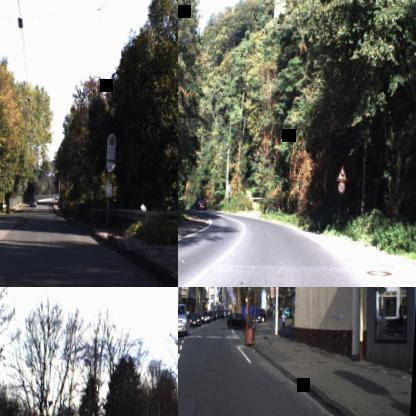bend left: (336, 164, 348, 182)
no overtaking (trucks): (90, 174, 98, 186)
speed limit 30: (147, 400, 158, 416)
speed limit 50: (336, 180, 346, 194)
